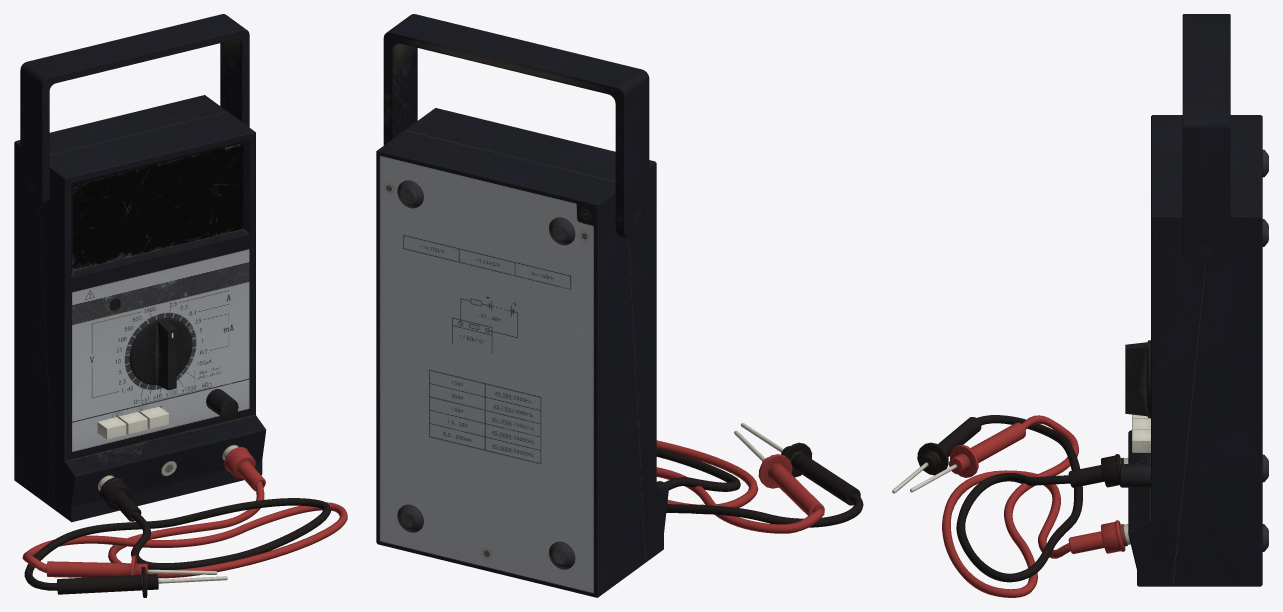
File: Retro Multimeter.glb
3 views of the same model, side by side, from view 1: azimuth 30°, elevation 25°; view 2: azimuth 150°, elevation 25°; view 3: azimuth 270°, elevation 25° (orthographic). The views are drawn at different scales.
Parts seen in each view (by area): view 1: retro_multimeter_LOD0_67afdd, retro_multimeter_cables_LOD0, retro_multimeter_LOD0_a9b293, retro_multimeter_handle_LOD0, retro_multimeter_dial_LOD0, retro_multimeter_buttons_LOD0, retro_multimeter_knob_LOD0; view 2: retro_multimeter_LOD0_67afdd, retro_multimeter_handle_LOD0, retro_multimeter_cables_LOD0; view 3: retro_multimeter_LOD0_67afdd, retro_multimeter_cables_LOD0, retro_multimeter_handle_LOD0, retro_multimeter_dial_LOD0, retro_multimeter_knob_LOD0, retro_multimeter_buttons_LOD0.
Part boxes in pixels (<box>): retro_multimeter_LOD0_67afdd: <box>14,95,266,522</box>; retro_multimeter_cables_LOD0: <box>22,445,347,597</box>; retro_multimeter_LOD0_a9b293: <box>72,143,243,270</box>; retro_multimeter_handle_LOD0: <box>20,14,249,207</box>; retro_multimeter_dial_LOD0: <box>129,318,192,390</box>; retro_multimeter_buttons_LOD0: <box>97,406,168,439</box>; retro_multimeter_knob_LOD0: <box>206,389,238,418</box>; retro_multimeter_LOD0_67afdd: <box>376,108,668,597</box>; retro_multimeter_handle_LOD0: <box>383,14,649,238</box>; retro_multimeter_cables_LOD0: <box>656,423,863,533</box>; retro_multimeter_LOD0_67afdd: <box>1128,115,1268,586</box>; retro_multimeter_cables_LOD0: <box>892,415,1130,597</box>; retro_multimeter_handle_LOD0: <box>1182,14,1230,266</box>; retro_multimeter_dial_LOD0: <box>1125,340,1150,418</box>; retro_multimeter_knob_LOD0: <box>1120,463,1150,487</box>; retro_multimeter_buttons_LOD0: <box>1132,414,1150,452</box>.
Size of the model in its own units: 0.216 by 0.2786 by 0.2026.
2 materials, 2 textured.
